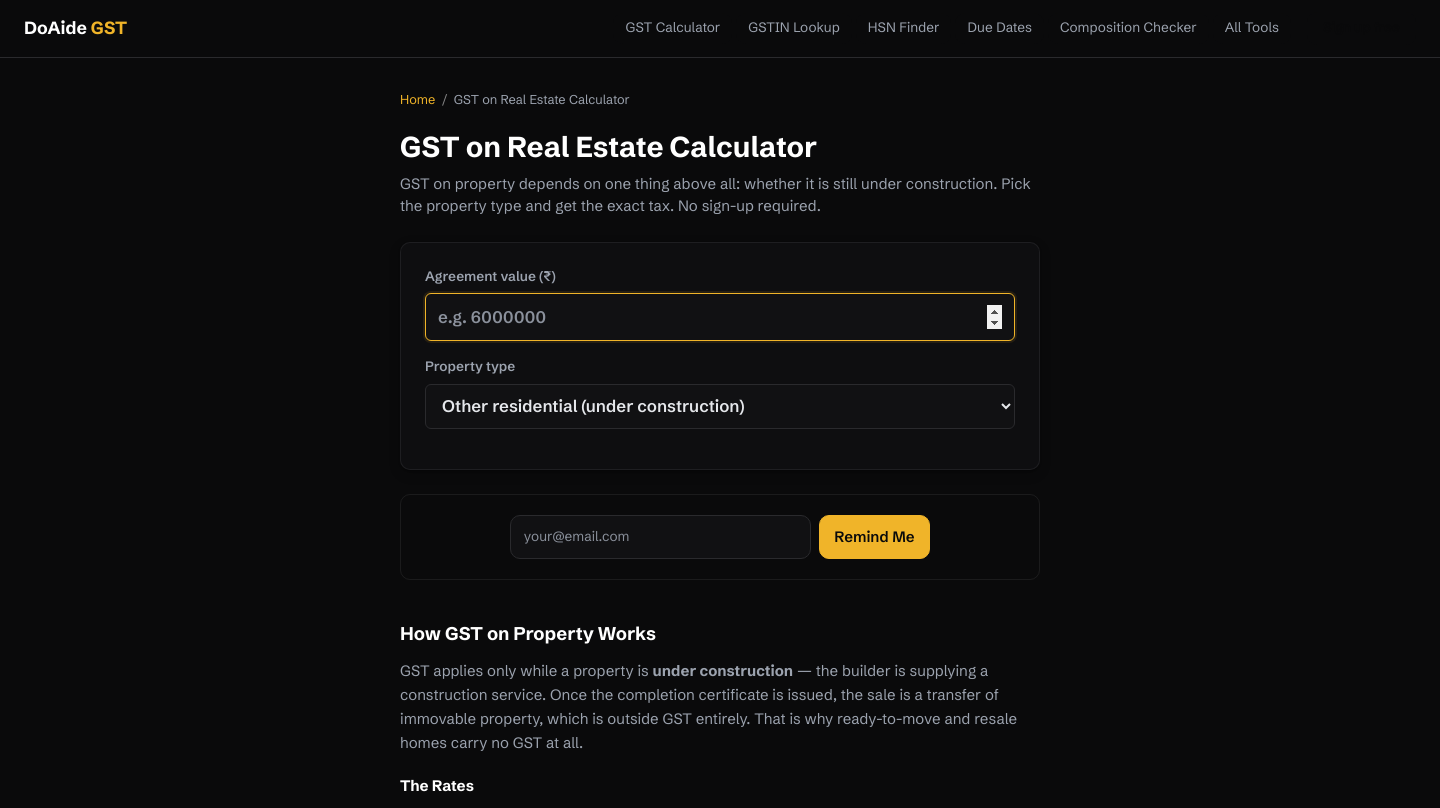
Test: GstOnRealEstatePage › switches to 1% for affordable housing
Type "4000000" into the number field with placeholder "e.g. 6000000" at [720, 317], box [425,293,1015,341]
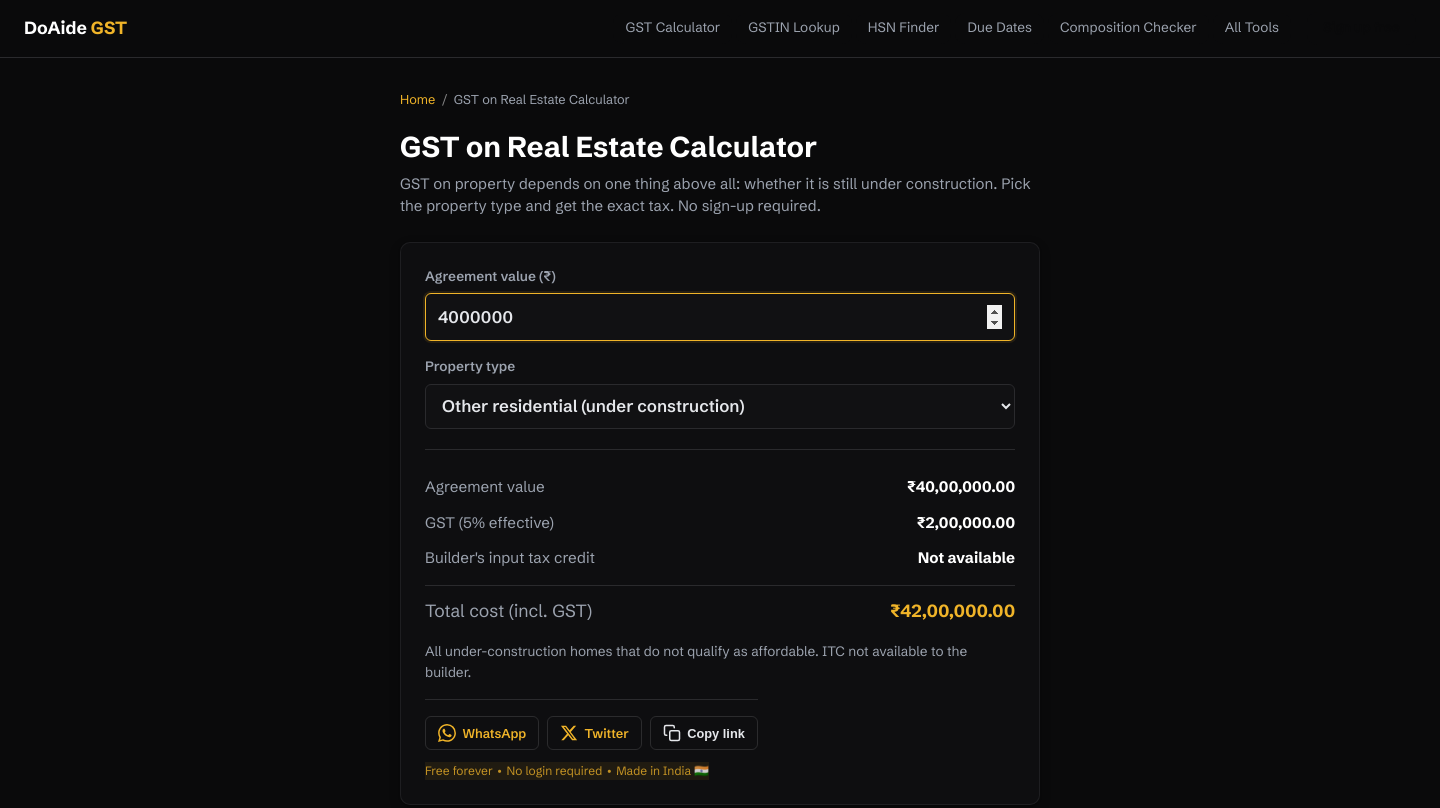
Select "Affordable housing (under construction)" in the dropdown at [720, 406], box [425,384,1015,429]
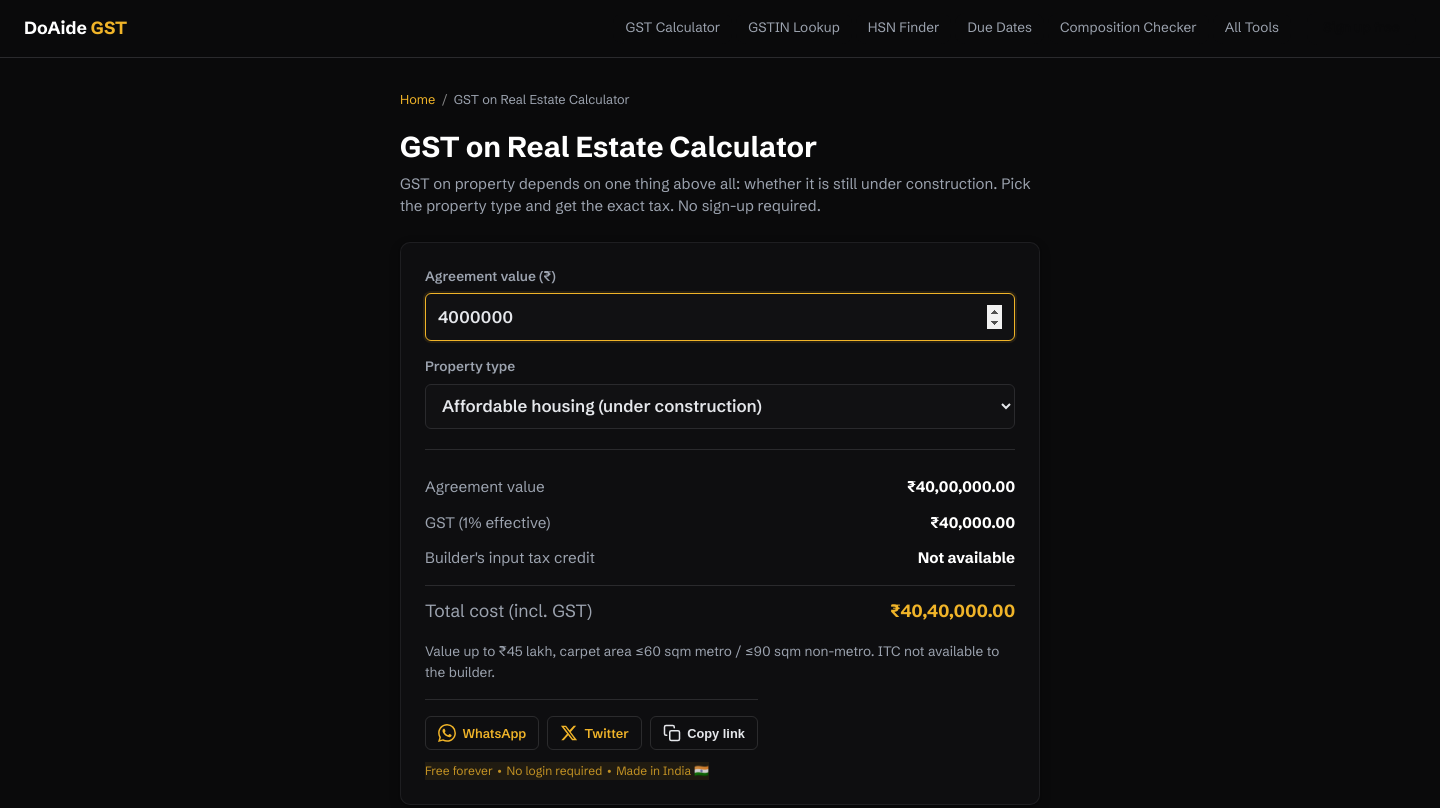
expect the text "GST (1% effective)" is shown: met, box [425,512,550,535]
